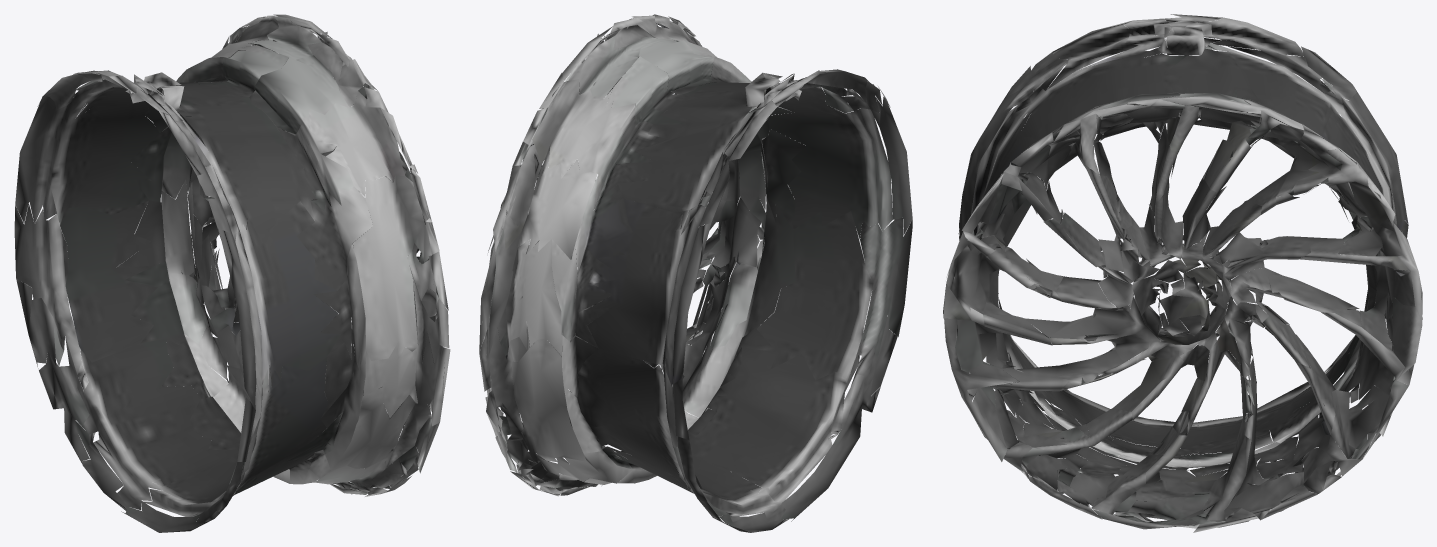
File: koncept_rim.glb
The picture shows the model from 3 angles, left to right: view 1: azimuth 30°, elevation 25°; view 2: azimuth 150°, elevation 25°; view 3: azimuth 270°, elevation 25°; orthographic projection. The views are drawn at different scales.
Visible parts, largest first — view 1: tripo_node_0e2c8db6-a18d-4e86-b81b-5e70998209fb; view 2: tripo_node_0e2c8db6-a18d-4e86-b81b-5e70998209fb; view 3: tripo_node_0e2c8db6-a18d-4e86-b81b-5e70998209fb.
Boxes of the visible parts, bbox=[...] form: tripo_node_0e2c8db6-a18d-4e86-b81b-5e70998209fb: bbox=[14, 14, 450, 532]; tripo_node_0e2c8db6-a18d-4e86-b81b-5e70998209fb: bbox=[479, 14, 912, 532]; tripo_node_0e2c8db6-a18d-4e86-b81b-5e70998209fb: bbox=[943, 14, 1422, 532].
Bounding box in the file's own units: 0.471 × 0.9952 × 1.
Materials: 1 (1 with a texture image).
